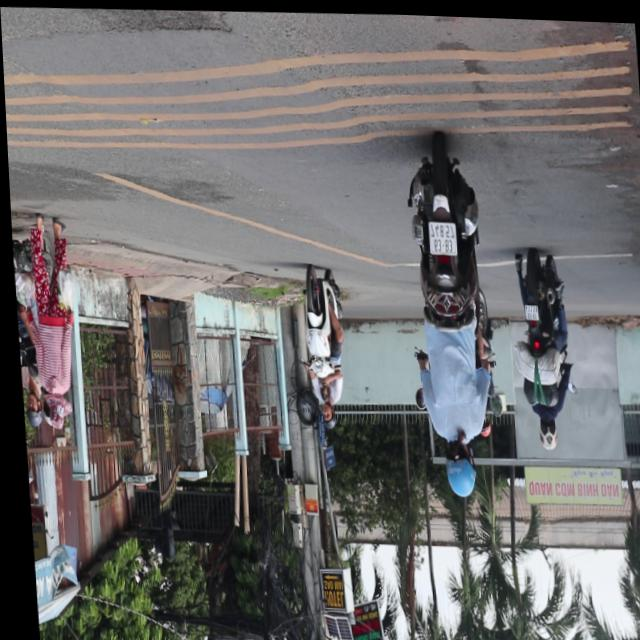helmet: (436, 434, 471, 496), (18, 392, 37, 428), (531, 416, 551, 447), (314, 399, 330, 427)
licenseplate: (395, 137, 498, 499), (505, 243, 571, 448), (293, 260, 347, 428)
nohelmet: (423, 218, 454, 250), (521, 300, 534, 317)
